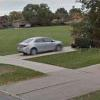Traffic light: (8, 26, 78, 63)
